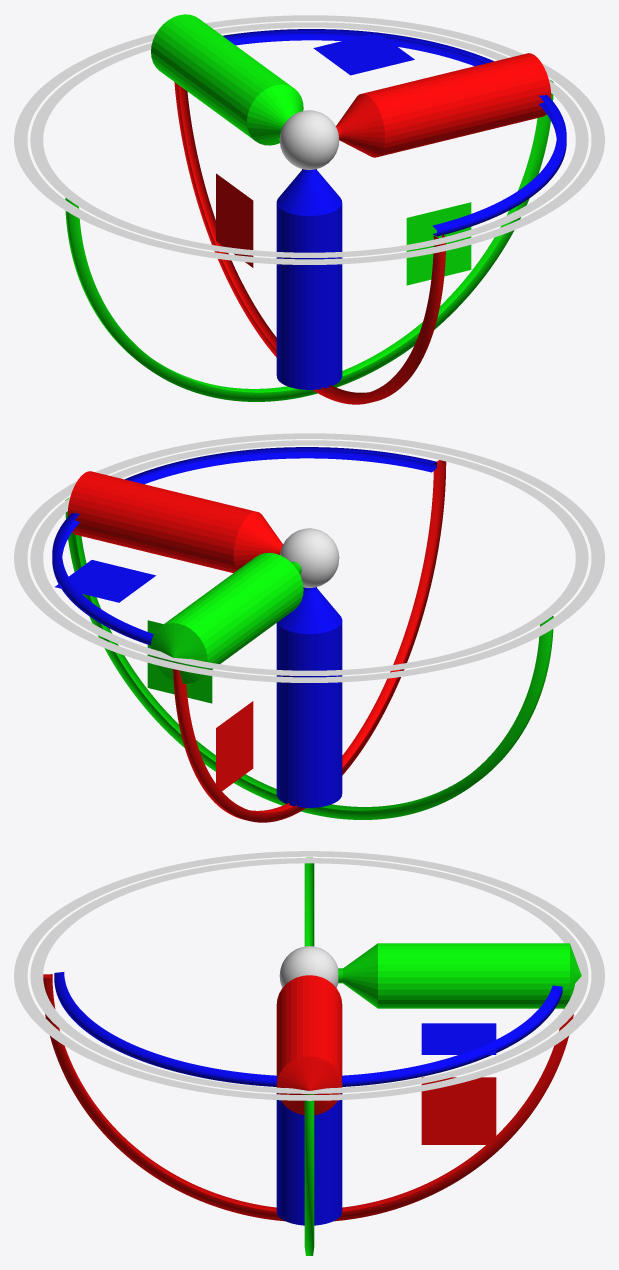
The model's file is gizmo-translation.fbx.
3 views of the same model, one above another, from view 1: azimuth 30°, elevation 25°; view 2: azimuth 150°, elevation 25°; view 3: azimuth 270°, elevation 25° (orthographic).
Parts seen in each view (by area): view 1: ArrowXSelection, ArrowZSelection, RotateCenter, ArrowYSelection, Rotate2D, RotateY, RotateX, RotateZ, PlaneY, CenterTranslationSelection, PlaneZ, PlaneX; view 2: ArrowXSelection, ArrowZSelection, RotateCenter, ArrowYSelection, Rotate2D, RotateY, RotateX, RotateZ, PlaneX, CenterTranslationSelection, PlaneZ, PlaneY; view 3: ArrowYSelection, RotateCenter, Rotate2D, RotateX, ArrowXSelection, ArrowZSelection, RotateZ, PlaneX, RotateY, PlaneZ, CenterTranslationSelection.
Boxes of the visible parts, x1,y1,x2,y2 form: ArrowXSelection: (336, 53, 551, 157); ArrowZSelection: (276, 170, 342, 389); RotateCenter: (14, 15, 604, 264); ArrowYSelection: (151, 14, 303, 145); Rotate2D: (30, 22, 588, 257); RotateY: (65, 79, 553, 401); RotateX: (174, 82, 445, 404); RotateZ: (222, 29, 566, 236); PlaneY: (406, 202, 471, 285); CenterTranslationSelection: (279, 110, 339, 169); PlaneZ: (313, 32, 414, 75); PlaneX: (216, 173, 253, 267); ArrowXSelection: (67, 471, 282, 573); ArrowZSelection: (276, 588, 342, 807); RotateCenter: (14, 433, 604, 682); ArrowYSelection: (151, 552, 303, 683); Rotate2D: (30, 440, 588, 675); RotateY: (65, 498, 553, 819); RotateX: (173, 460, 446, 822); RotateZ: (52, 447, 436, 645); PlaneX: (216, 701, 253, 790); CenterTranslationSelection: (280, 528, 339, 587); PlaneZ: (55, 560, 155, 602); PlaneY: (147, 620, 212, 703); ArrowYSelection: (343, 943, 581, 1008); RotateCenter: (14, 851, 604, 1100); Rotate2D: (30, 858, 588, 1093); RotateX: (43, 974, 573, 1221); ArrowXSelection: (276, 975, 342, 1115); ArrowZSelection: (276, 1093, 342, 1225); RotateZ: (54, 972, 562, 1086); PlaneX: (421, 1077, 496, 1144); RotateY: (304, 857, 314, 1255); PlaneZ: (421, 1023, 496, 1054); CenterTranslationSelection: (279, 946, 338, 987).
Bounding box in the file's own units: 39572 × 20942 × 39572.
